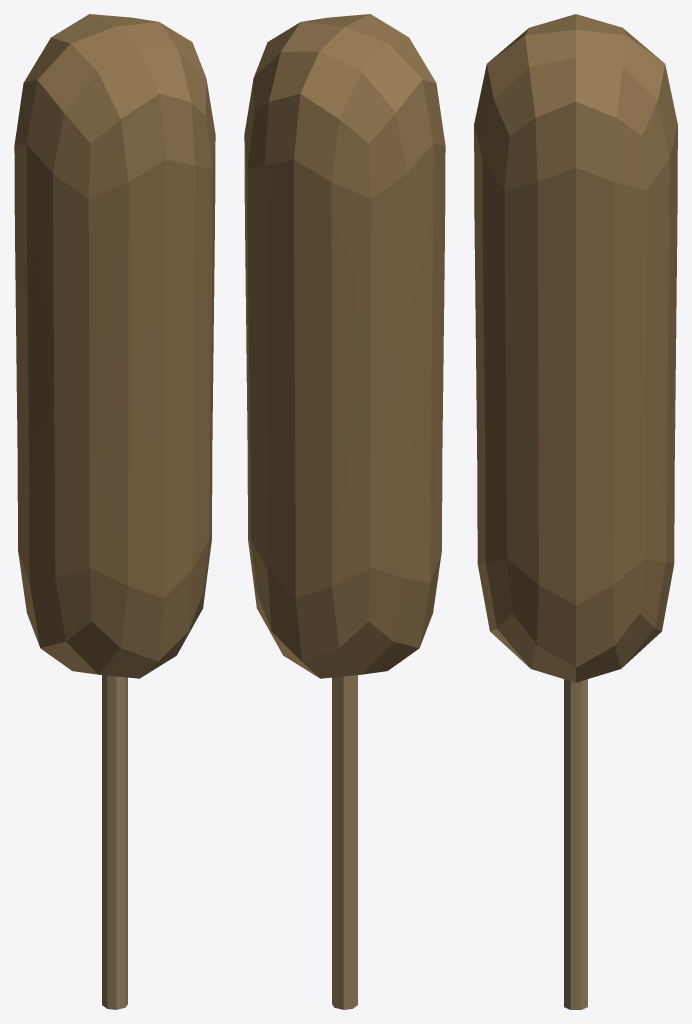
File: ingredient_corndog.glb
The picture shows the model from 3 angles, left to right: view 1: azimuth 30°, elevation 25°; view 2: azimuth 150°, elevation 25°; view 3: azimuth 270°, elevation 25°; orthographic projection.
Visible parts, largest first — view 1: Corndog_Cube.027; view 2: Corndog_Cube.027; view 3: Corndog_Cube.027.
Boxes of the visible parts, x1,y1,x2,y2 form: Corndog_Cube.027: [14, 14, 215, 1009]; Corndog_Cube.027: [244, 14, 445, 1009]; Corndog_Cube.027: [474, 14, 677, 1009].
Size of the model in its own units: 0.2561 by 1.35 by 0.2561.
